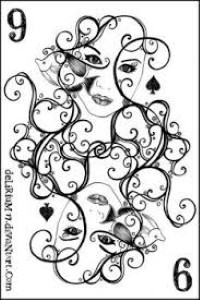NineOfSpades: (4, 2, 200, 297)
